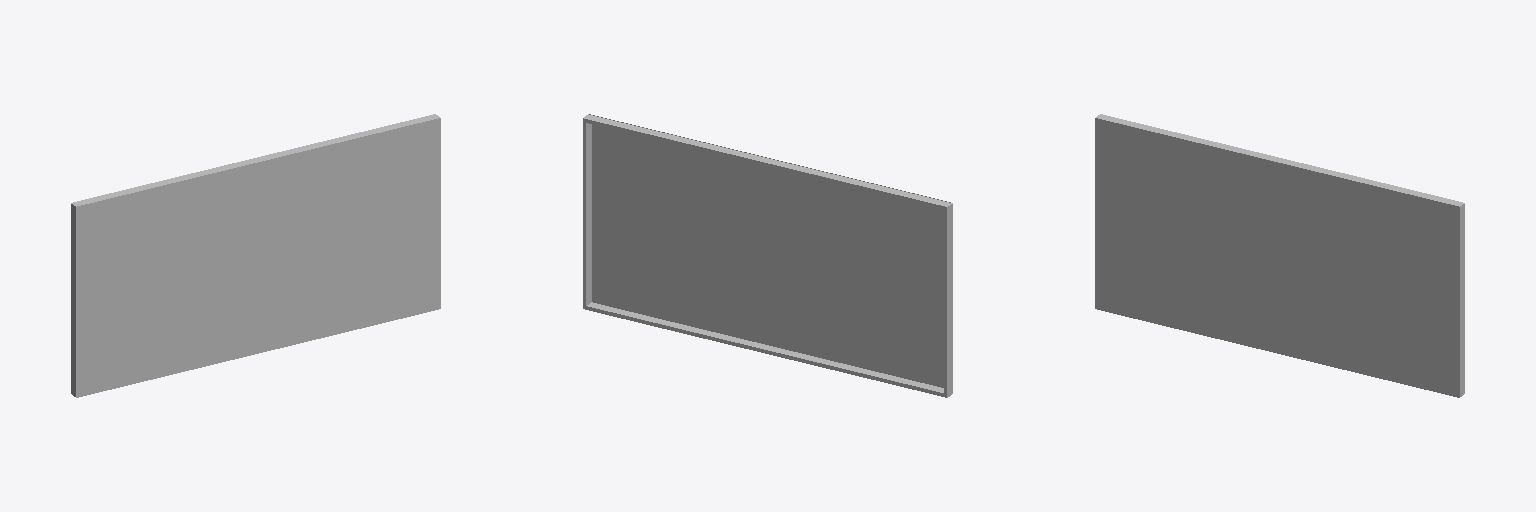
3 views of the same model, side by side, from view 1: azimuth 30°, elevation 25°; view 2: azimuth 150°, elevation 25°; view 3: azimuth 330°, elevation 25° (orthographic).
Parts seen in each view (by area): view 1: base, Cube.002, Cube.003; view 2: base, Cube.002, Cube.001, Cube.003, Cube.004; view 3: base, Cube.002, Cube.004.
Part boxes in pixels (x1,y1,x2,y2): base: (77, 118, 440, 397); Cube.002: (71, 114, 439, 209); Cube.003: (71, 207, 76, 393); base: (589, 114, 950, 387); Cube.002: (583, 114, 952, 210); Cube.001: (583, 302, 952, 397); Cube.003: (944, 207, 952, 393); Cube.004: (583, 122, 591, 305); base: (1095, 118, 1458, 397); Cube.002: (1096, 114, 1464, 209); Cube.004: (1459, 207, 1464, 393).
Bounding box in the file's own units: 4 × 2 × 0.11.